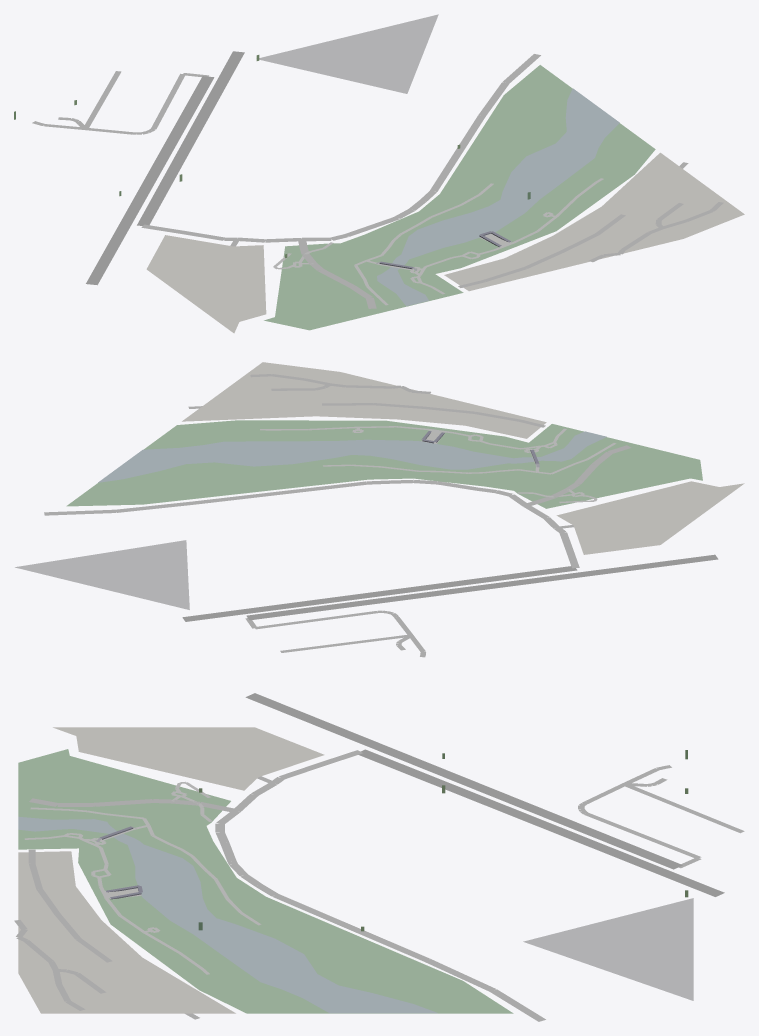
The picture shows the model from 3 angles, top to bottom: view 1: azimuth 30°, elevation 25°; view 2: azimuth 150°, elevation 25°; view 3: azimuth 270°, elevation 25°; orthographic projection. The views are drawn at different scales.
Bounding box in the file's own units: 572 × 9.16 × 541.
